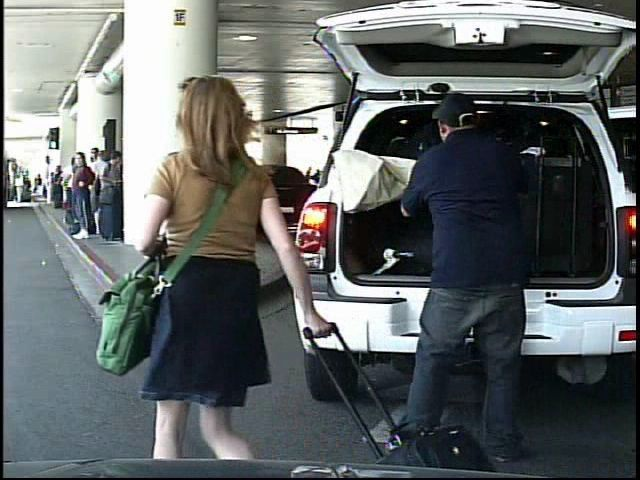person: (134, 71, 306, 461), (385, 85, 543, 447), (302, 166, 314, 194), (14, 174, 25, 204), (35, 173, 45, 200)
